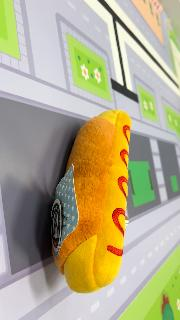hotdog: (49, 109, 132, 294)
